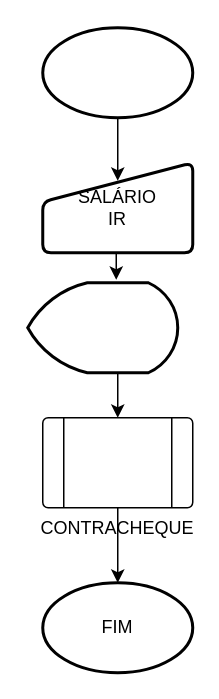
The diagram is 219 pixels wide and 699 high, and some of its shapes have lost their labels. Each missing label, with the centre of its shape:
"INICIO" goes at (x=117, y=72).
"SALLIQ" goes at (x=102, y=327).
